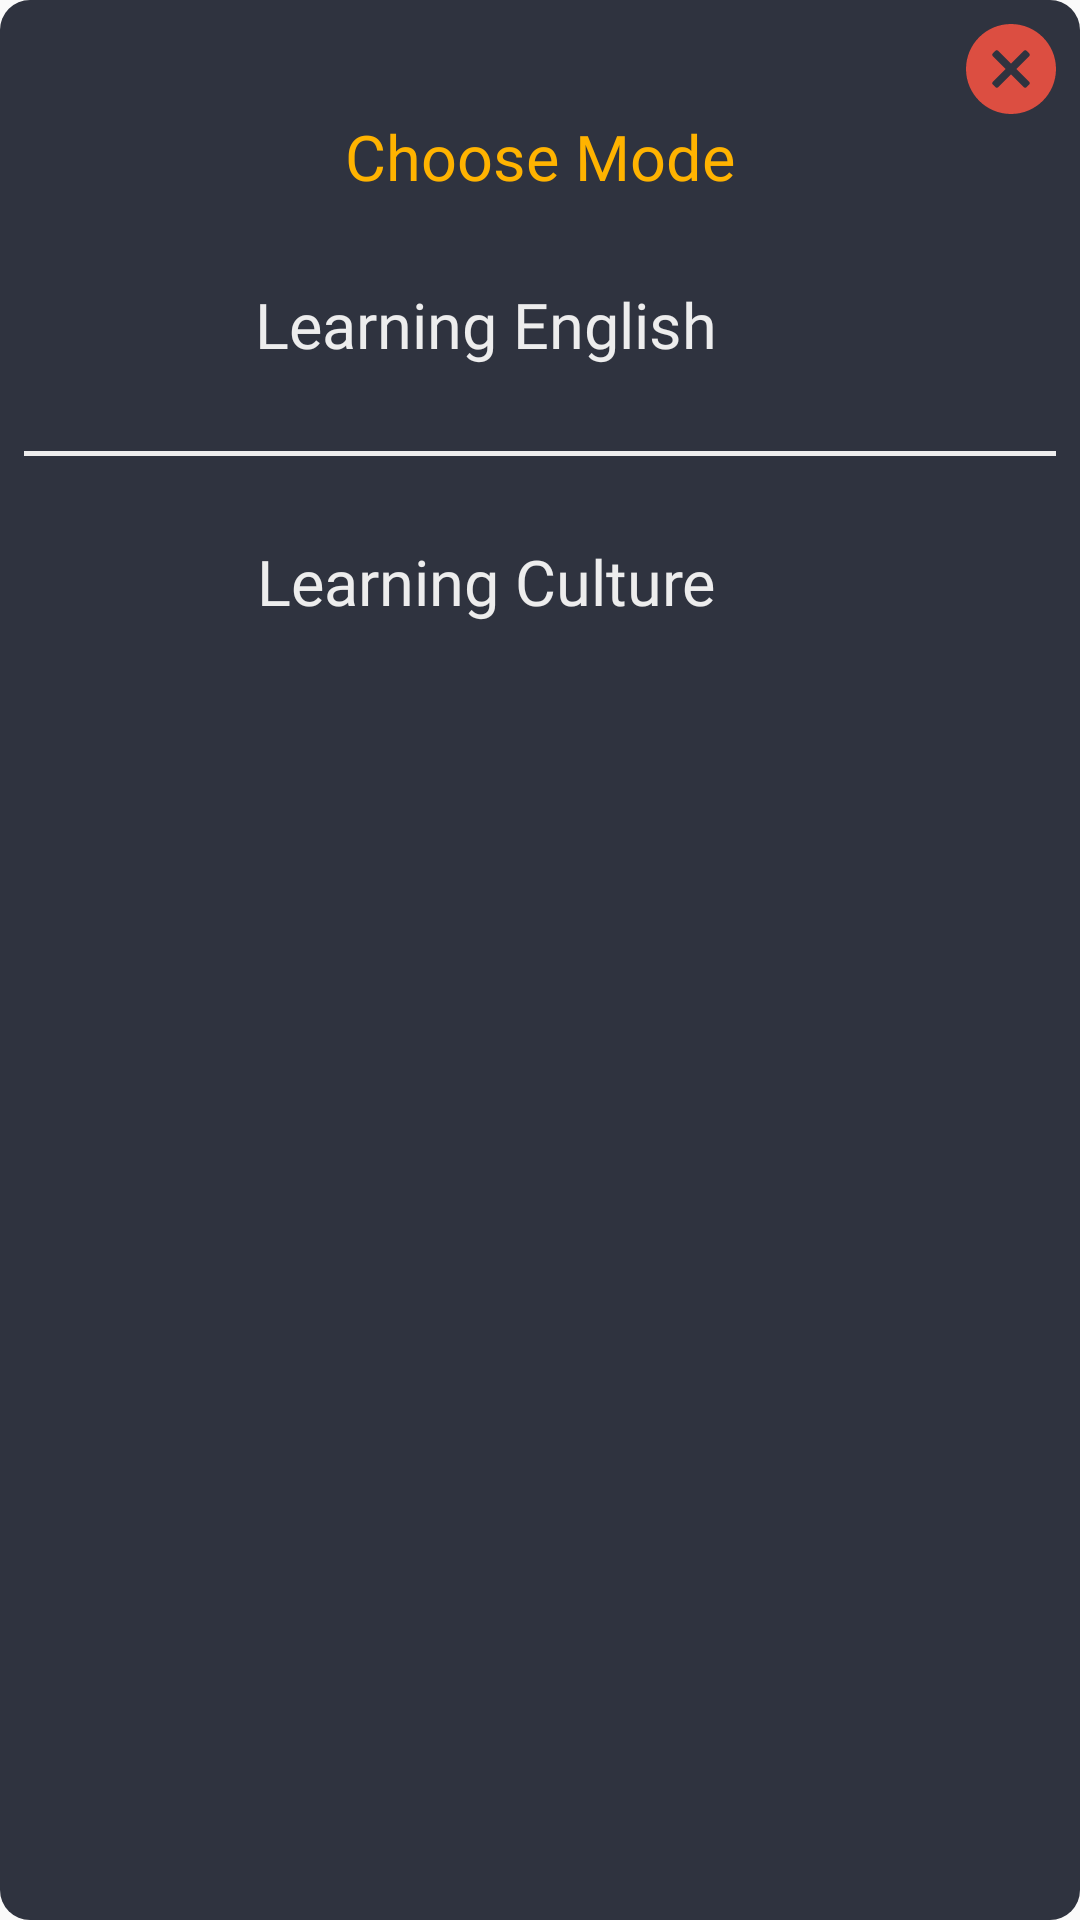

Screen size 1080×1920. Icon name, then its box in pixels as (x1, y1, x2, y2):
false: (966, 24, 1056, 114)
